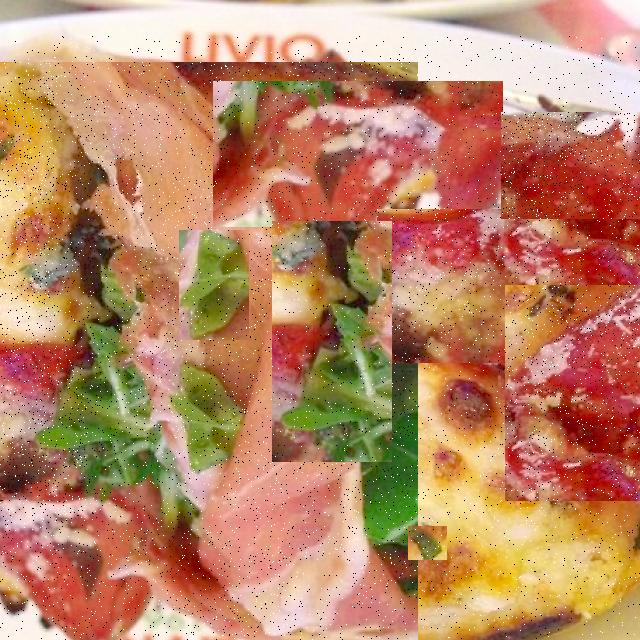Ham: (0, 62, 418, 640), (213, 81, 503, 227), (377, 209, 640, 363), (505, 285, 640, 501), (501, 112, 640, 219)
Pizza: (0, 37, 640, 640)
Rucola: (272, 221, 392, 462), (0, 76, 58, 369), (0, 356, 88, 529), (179, 230, 249, 340), (408, 526, 447, 560)
